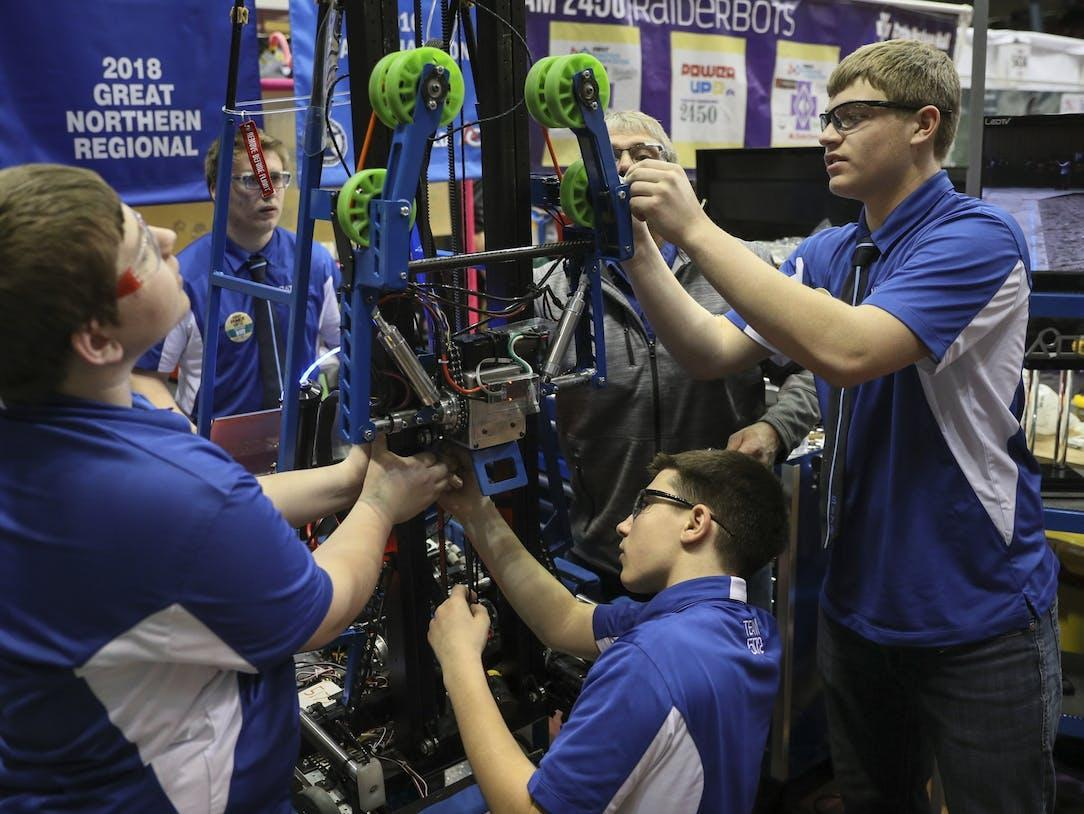robot: (200, 0, 664, 814)
